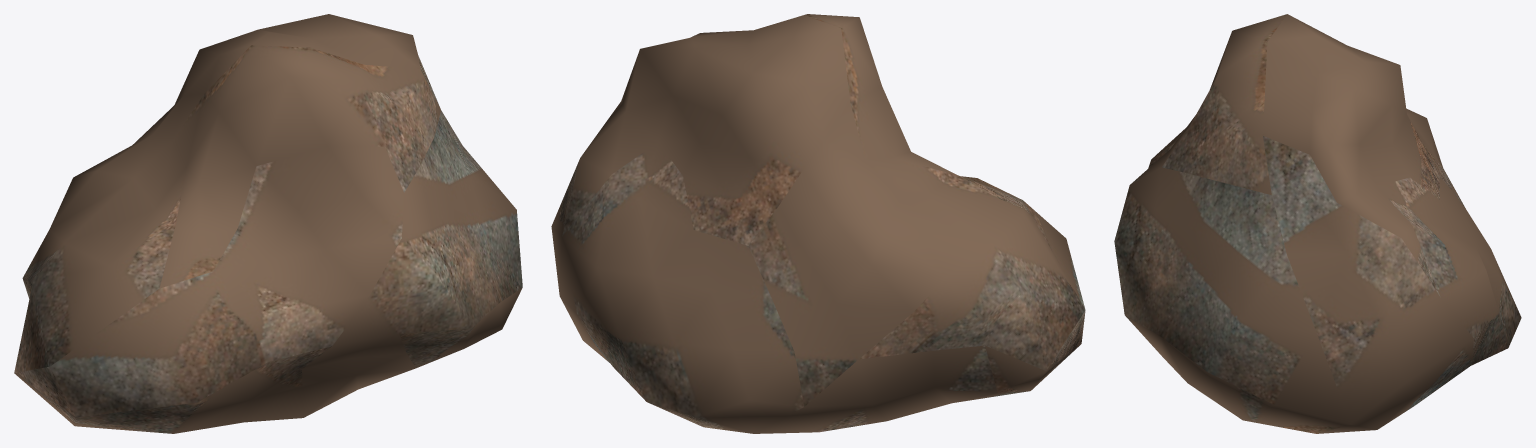
The model's file is rock02.dae.
3 views of the same model, side by side, from view 1: azimuth 30°, elevation 25°; view 2: azimuth 150°, elevation 25°; view 3: azimuth 270°, elevation 25° (orthographic). The views are drawn at different scales.
Visible parts, largest first — view 1: rock02; view 2: rock02; view 3: rock02.
Boxes of the visible parts, bbox=[...] form: rock02: bbox=[14, 14, 522, 433]; rock02: bbox=[551, 14, 1085, 433]; rock02: bbox=[1114, 14, 1521, 433].
Bounding box in the file's own units: 2.32 × 1.84 × 1.66.
Materials: 1 (1 with a texture image).
